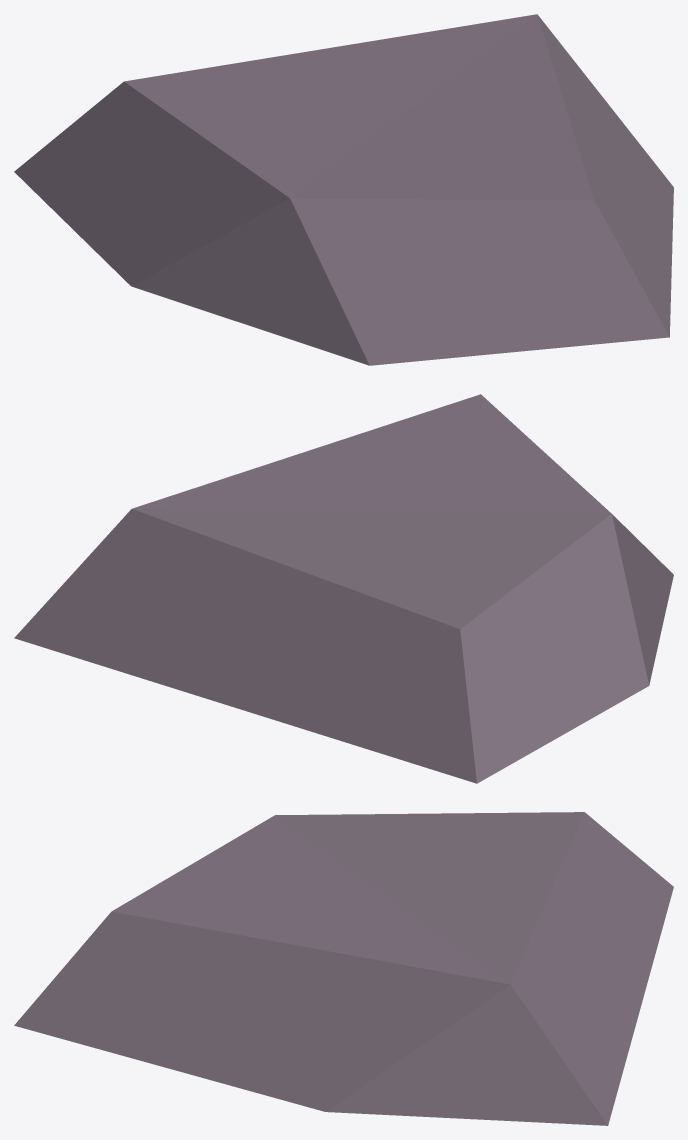
The model's file is Small_stone_v10.fbx.
The picture shows the model from 3 angles, top to bottom: view 1: azimuth 30°, elevation 25°; view 2: azimuth 150°, elevation 25°; view 3: azimuth 270°, elevation 25°; orthographic projection. The views are drawn at different scales.
Parts seen in each view (by area): view 1: Small_stone_v10; view 2: Small_stone_v10; view 3: Small_stone_v10.
Part boxes in pixels (box(x1,y1,x2,y2)): Small_stone_v10: box(14, 14, 673, 365); Small_stone_v10: box(14, 394, 673, 783); Small_stone_v10: box(14, 812, 673, 1125).
Bounding box in the file's own units: 17.55 × 3.86 × 19.36.
1 material, 1 textured.
